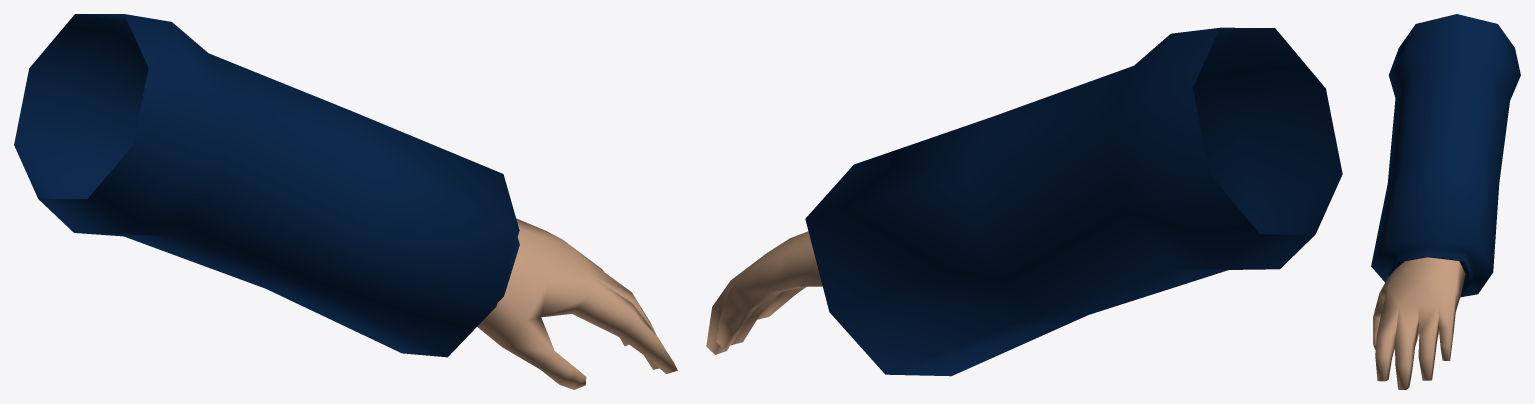
The model's file is rightlower.obj.
3 views of the same model, side by side, from view 1: azimuth 30°, elevation 25°; view 2: azimuth 150°, elevation 25°; view 3: azimuth 270°, elevation 25° (orthographic). The views are drawn at different scales.
Visible parts, largest first — view 1: polySurface6 _Mesh1, _Mesh1 polySurface7; view 2: polySurface6 _Mesh1, _Mesh1 polySurface7; view 3: polySurface6 _Mesh1, _Mesh1 polySurface7.
Boxes of the visible parts, left/top/right/bottom form: polySurface6 _Mesh1: left=14, top=14, right=519, bottom=357; _Mesh1 polySurface7: left=477, top=218, right=677, bottom=389; polySurface6 _Mesh1: left=805, top=27, right=1342, bottom=376; _Mesh1 polySurface7: left=706, top=231, right=822, bottom=354; polySurface6 _Mesh1: left=1371, top=14, right=1520, bottom=297; _Mesh1 polySurface7: left=1373, top=257, right=1465, bottom=389.
Bounding box in the file's own units: 25.08 × 18.01 × 10.07.
